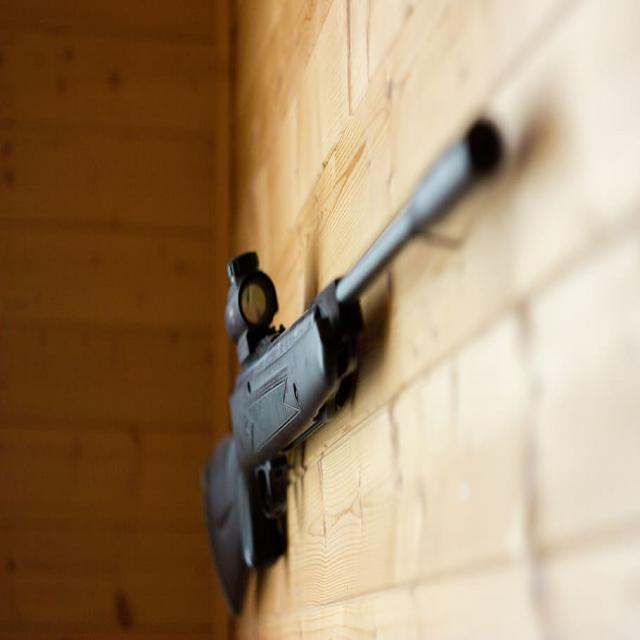gun: (200, 112, 506, 615)
